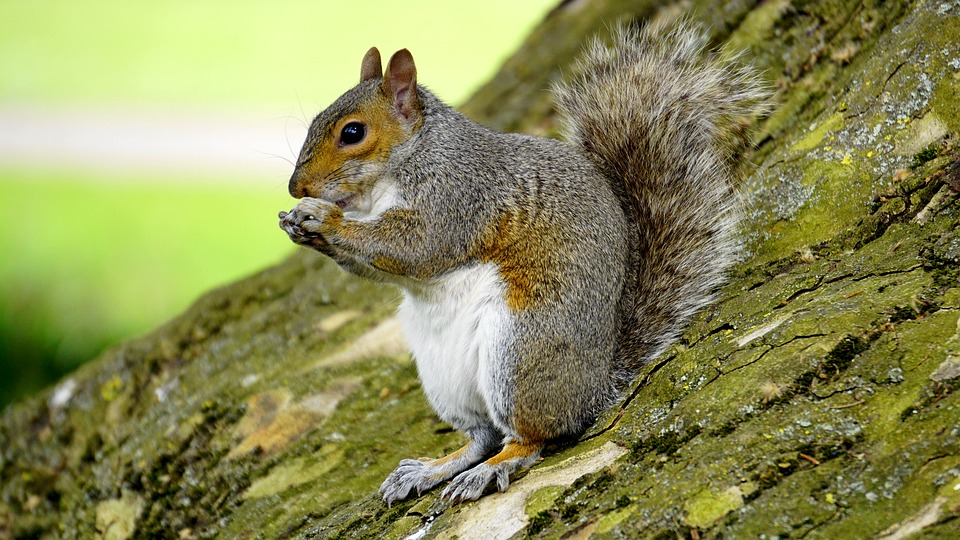squirrel: (278, 39, 738, 506)
